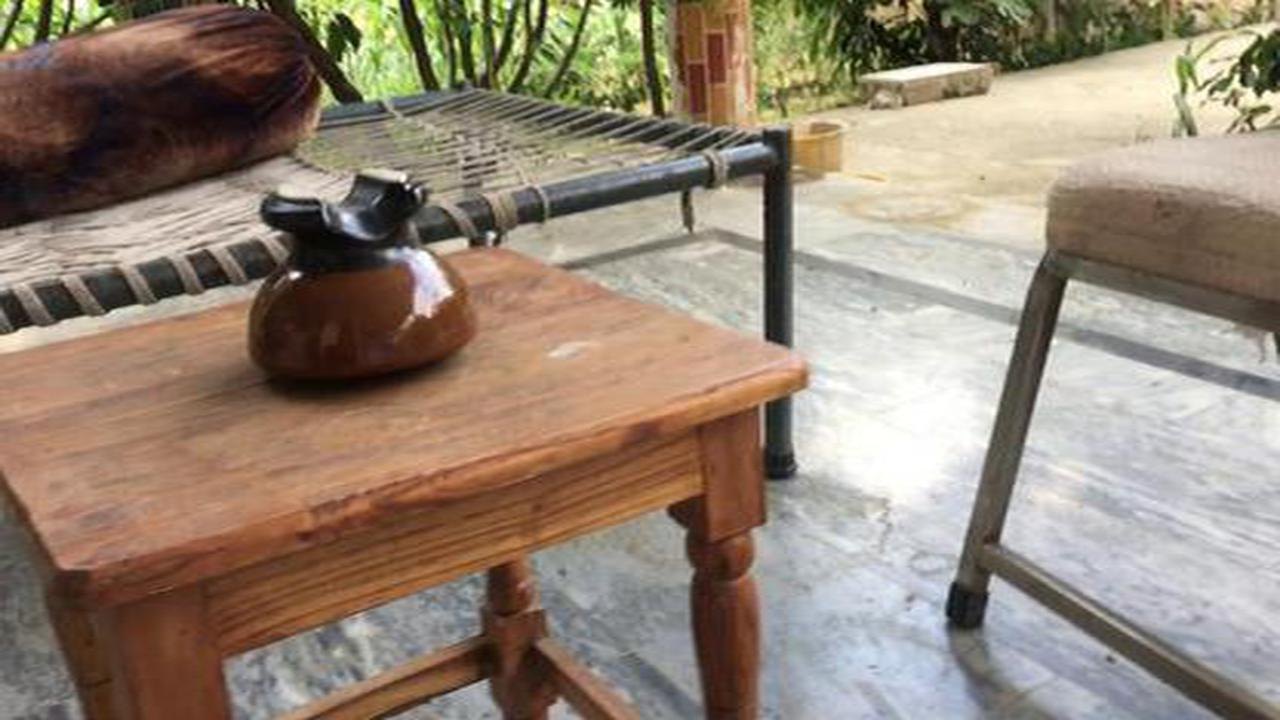insulator_pin: (219, 153, 490, 416)
